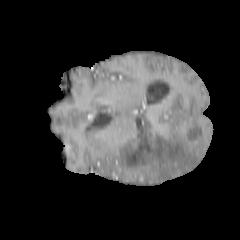glioma: (116, 108, 203, 179)
